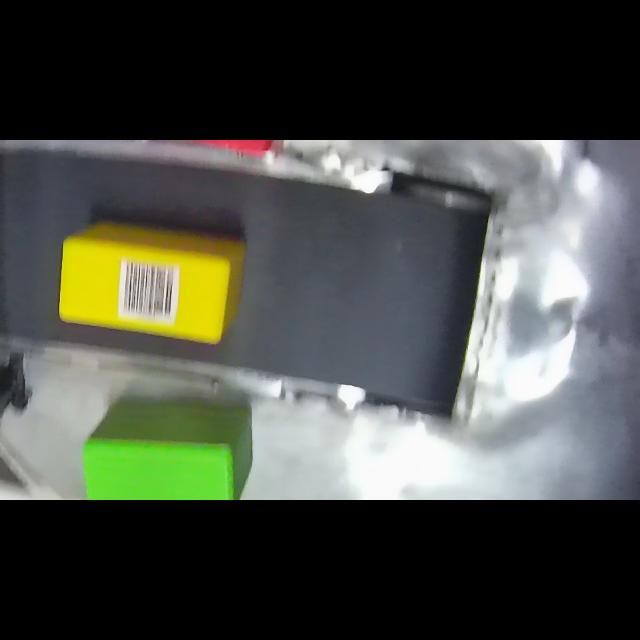greenBox: (84, 394, 256, 500)
yellowBox: (58, 218, 245, 350)
